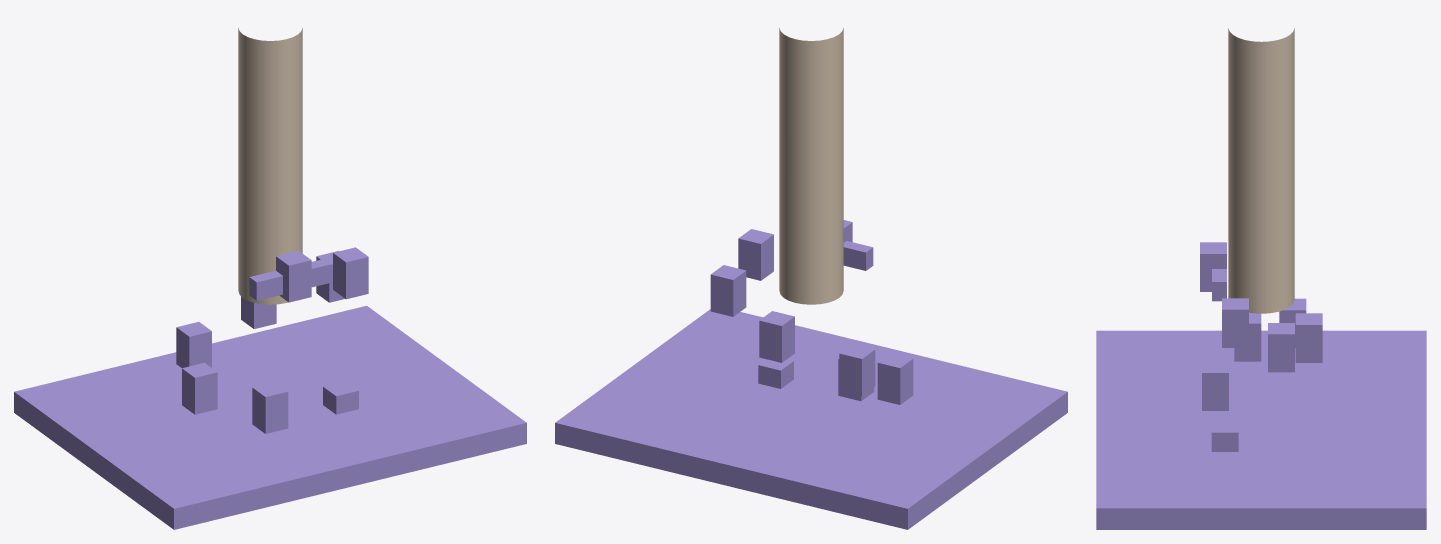
File: fault_eau.gltf
The picture shows the model from 3 angles, left to right: view 1: azimuth 30°, elevation 25°; view 2: azimuth 150°, elevation 25°; view 3: azimuth 270°, elevation 25°; orthographic projection. The views are drawn at different scales.
Parts seen in each view (by area): view 1: puddle, leak_pipe, water_drop_6, water_drop_1, water_drop_5, water_drop_0, water_drop_4, split, water_drop_7, water_drop_3; view 2: puddle, leak_pipe, water_drop_5, water_drop_2, water_drop_4, water_drop_3, water_drop_1, water_drop_7, split; view 3: puddle, leak_pipe, water_drop_3, water_drop_1, water_drop_2, water_drop_6, water_drop_0, water_drop_7, water_drop_5, split, water_drop_4.
Boxes of the visible parts, box(x1,y1,x2,y2) form: puddle: box(14, 305, 526, 529); leak_pipe: box(238, 28, 302, 304); water_drop_6: box(252, 382, 288, 433); water_drop_1: box(333, 247, 368, 299); water_drop_5: box(182, 363, 217, 414); water_drop_0: box(276, 250, 311, 302); water_drop_4: box(176, 322, 211, 367); split: box(249, 258, 332, 300); water_drop_7: box(323, 381, 358, 414); water_drop_3: box(241, 296, 276, 328); puddle: box(555, 309, 1067, 529); leak_pipe: box(779, 28, 843, 304); water_drop_5: box(877, 353, 913, 404); water_drop_2: box(710, 265, 746, 316); water_drop_4: box(839, 344, 875, 395); water_drop_3: box(759, 311, 794, 362); water_drop_1: box(738, 229, 773, 280); water_drop_7: box(758, 359, 793, 388); split: box(843, 241, 873, 270); puddle: box(1096, 330, 1426, 529); leak_pipe: box(1228, 28, 1294, 313); water_drop_3: box(1295, 313, 1322, 362); water_drop_1: box(1222, 298, 1248, 347); water_drop_2: box(1268, 323, 1294, 372); water_drop_6: box(1202, 361, 1228, 410); water_drop_0: box(1200, 242, 1226, 291); water_drop_7: box(1211, 421, 1238, 451); water_drop_5: box(1234, 312, 1261, 361); split: box(1212, 269, 1226, 301); water_drop_4: box(1279, 298, 1306, 348).
Size of the model in its own units: 0.7 by 0.76 by 0.55.
